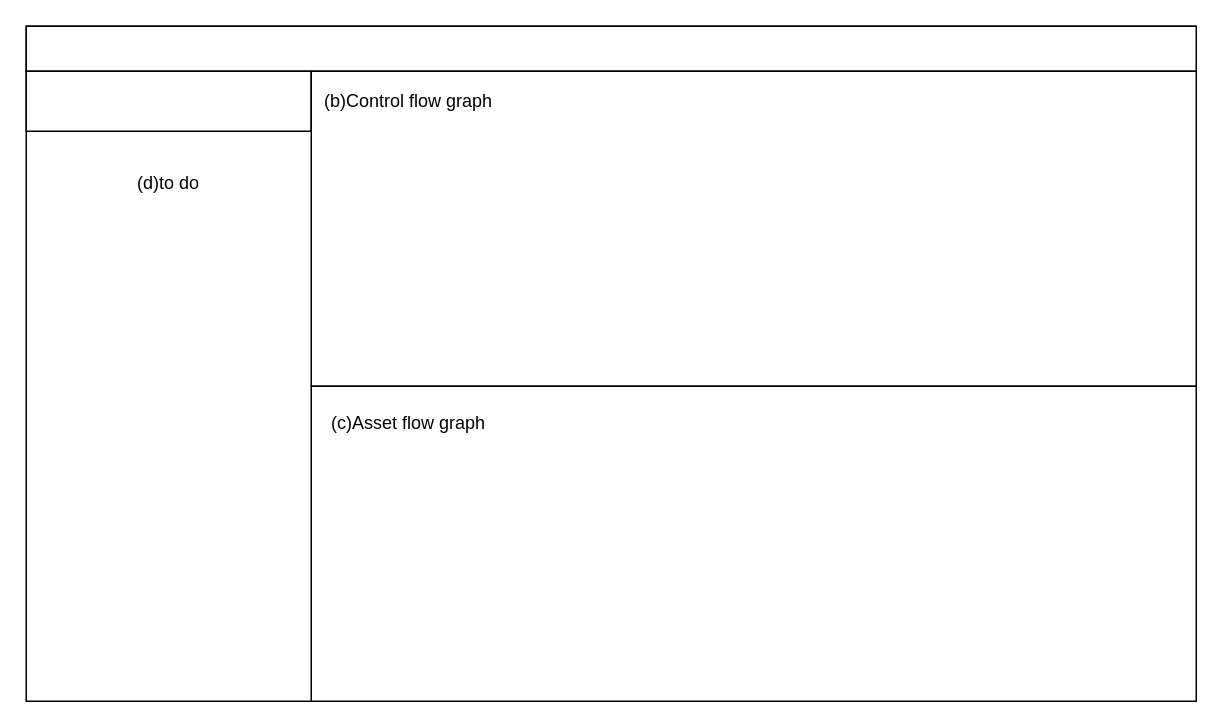
This 1223x728 diagram has some shape labels left out. The shapes that lost their labels are listed below. From the top down, each one's centre as x and y in pixels, then its label:
At (610,48): "Arbitrage Visual Analytics System".
At (168,100): "(a)transaction hash".
